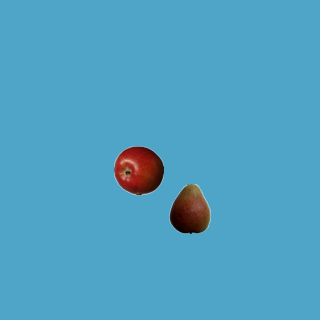Apple Braeburn: (113, 145, 163, 195)
Pear Forelle: (164, 183, 214, 233)
